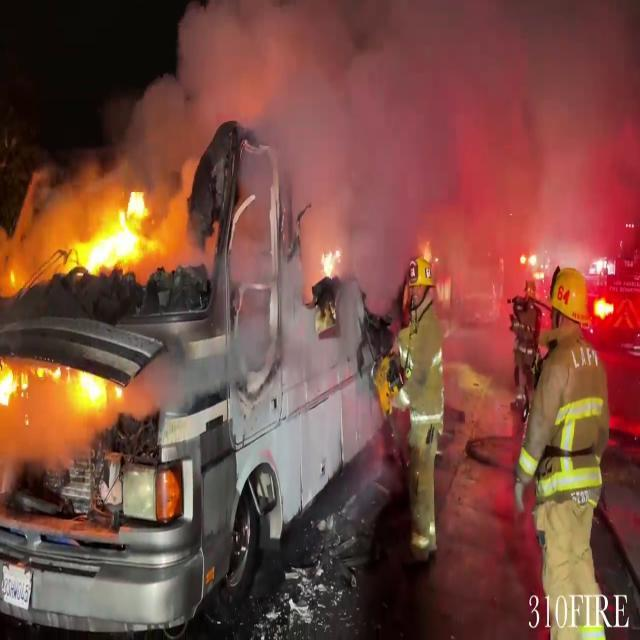Fire: (72, 183, 162, 277), (0, 358, 129, 418)
Smoke: (155, 0, 640, 330)
